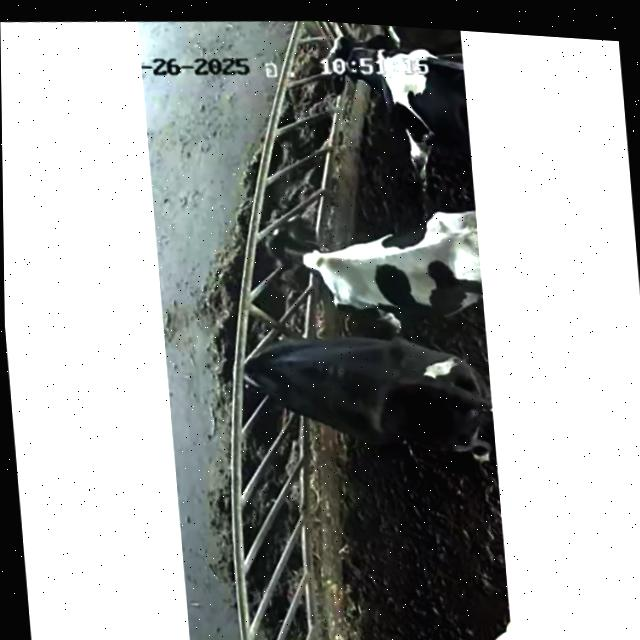eat: (217, 188, 414, 317), (178, 304, 343, 445)
